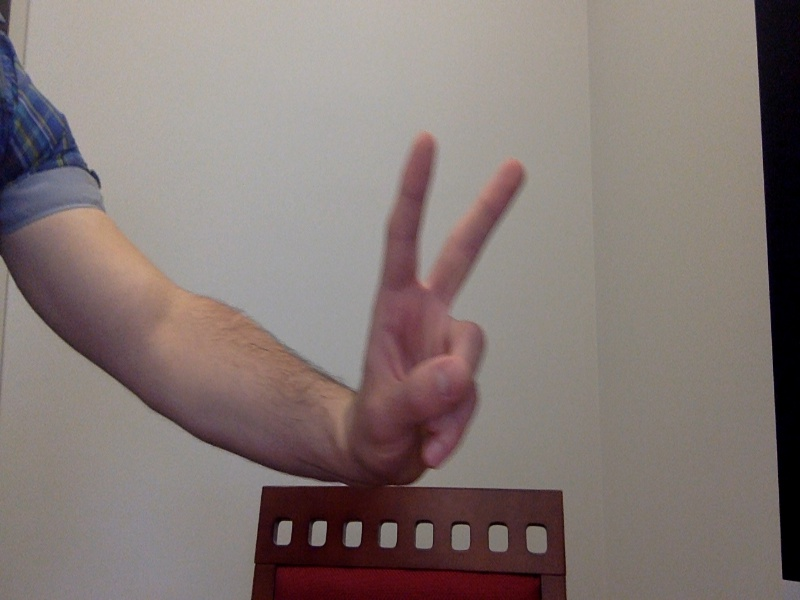2-hand: (345, 133, 529, 481)
